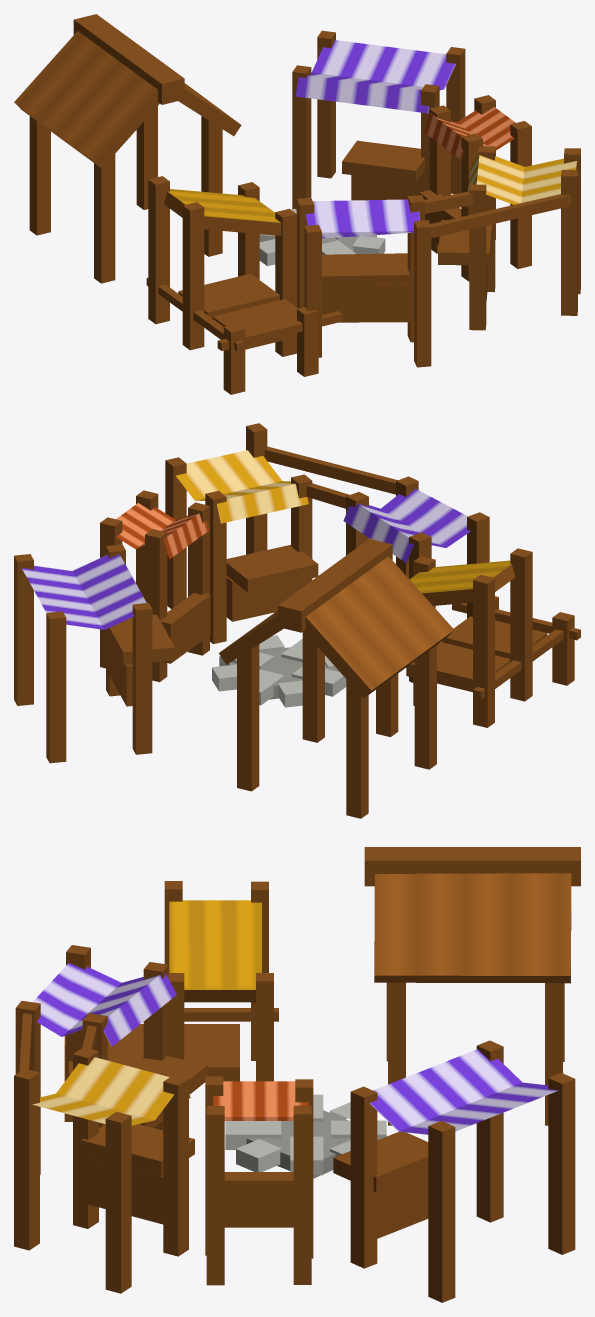
File: market.fbx
The picture shows the model from 3 angles, top to bottom: view 1: azimuth 30°, elevation 25°; view 2: azimuth 150°, elevation 25°; view 3: azimuth 270°, elevation 25°; orthographic projection. The views are drawn at different scales.
Parts seen in each view (by area): view 1: polySurface61; view 2: polySurface61; view 3: polySurface61.
Part boxes in pixels (x1,y1,x2,y2): polySurface61: (14,14,580,394); polySurface61: (14,423,580,818); polySurface61: (14,847,580,1302).
Bounding box in the file's own units: 215 × 115 × 217.
Materials: 1 (1 with a texture image).
